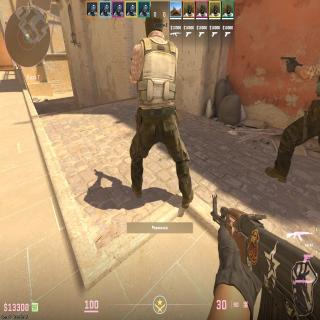T-Body: (132, 4, 179, 196), (300, 50, 320, 179)
T-Head: (145, 6, 164, 36)
